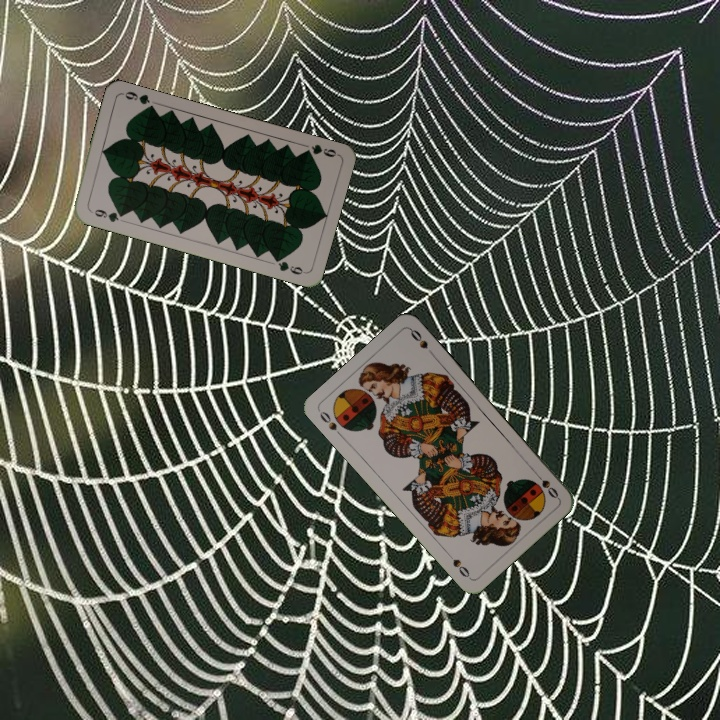G9: (299, 140, 341, 160), (86, 205, 127, 225)
SO: (530, 467, 561, 501), (315, 407, 346, 441)
